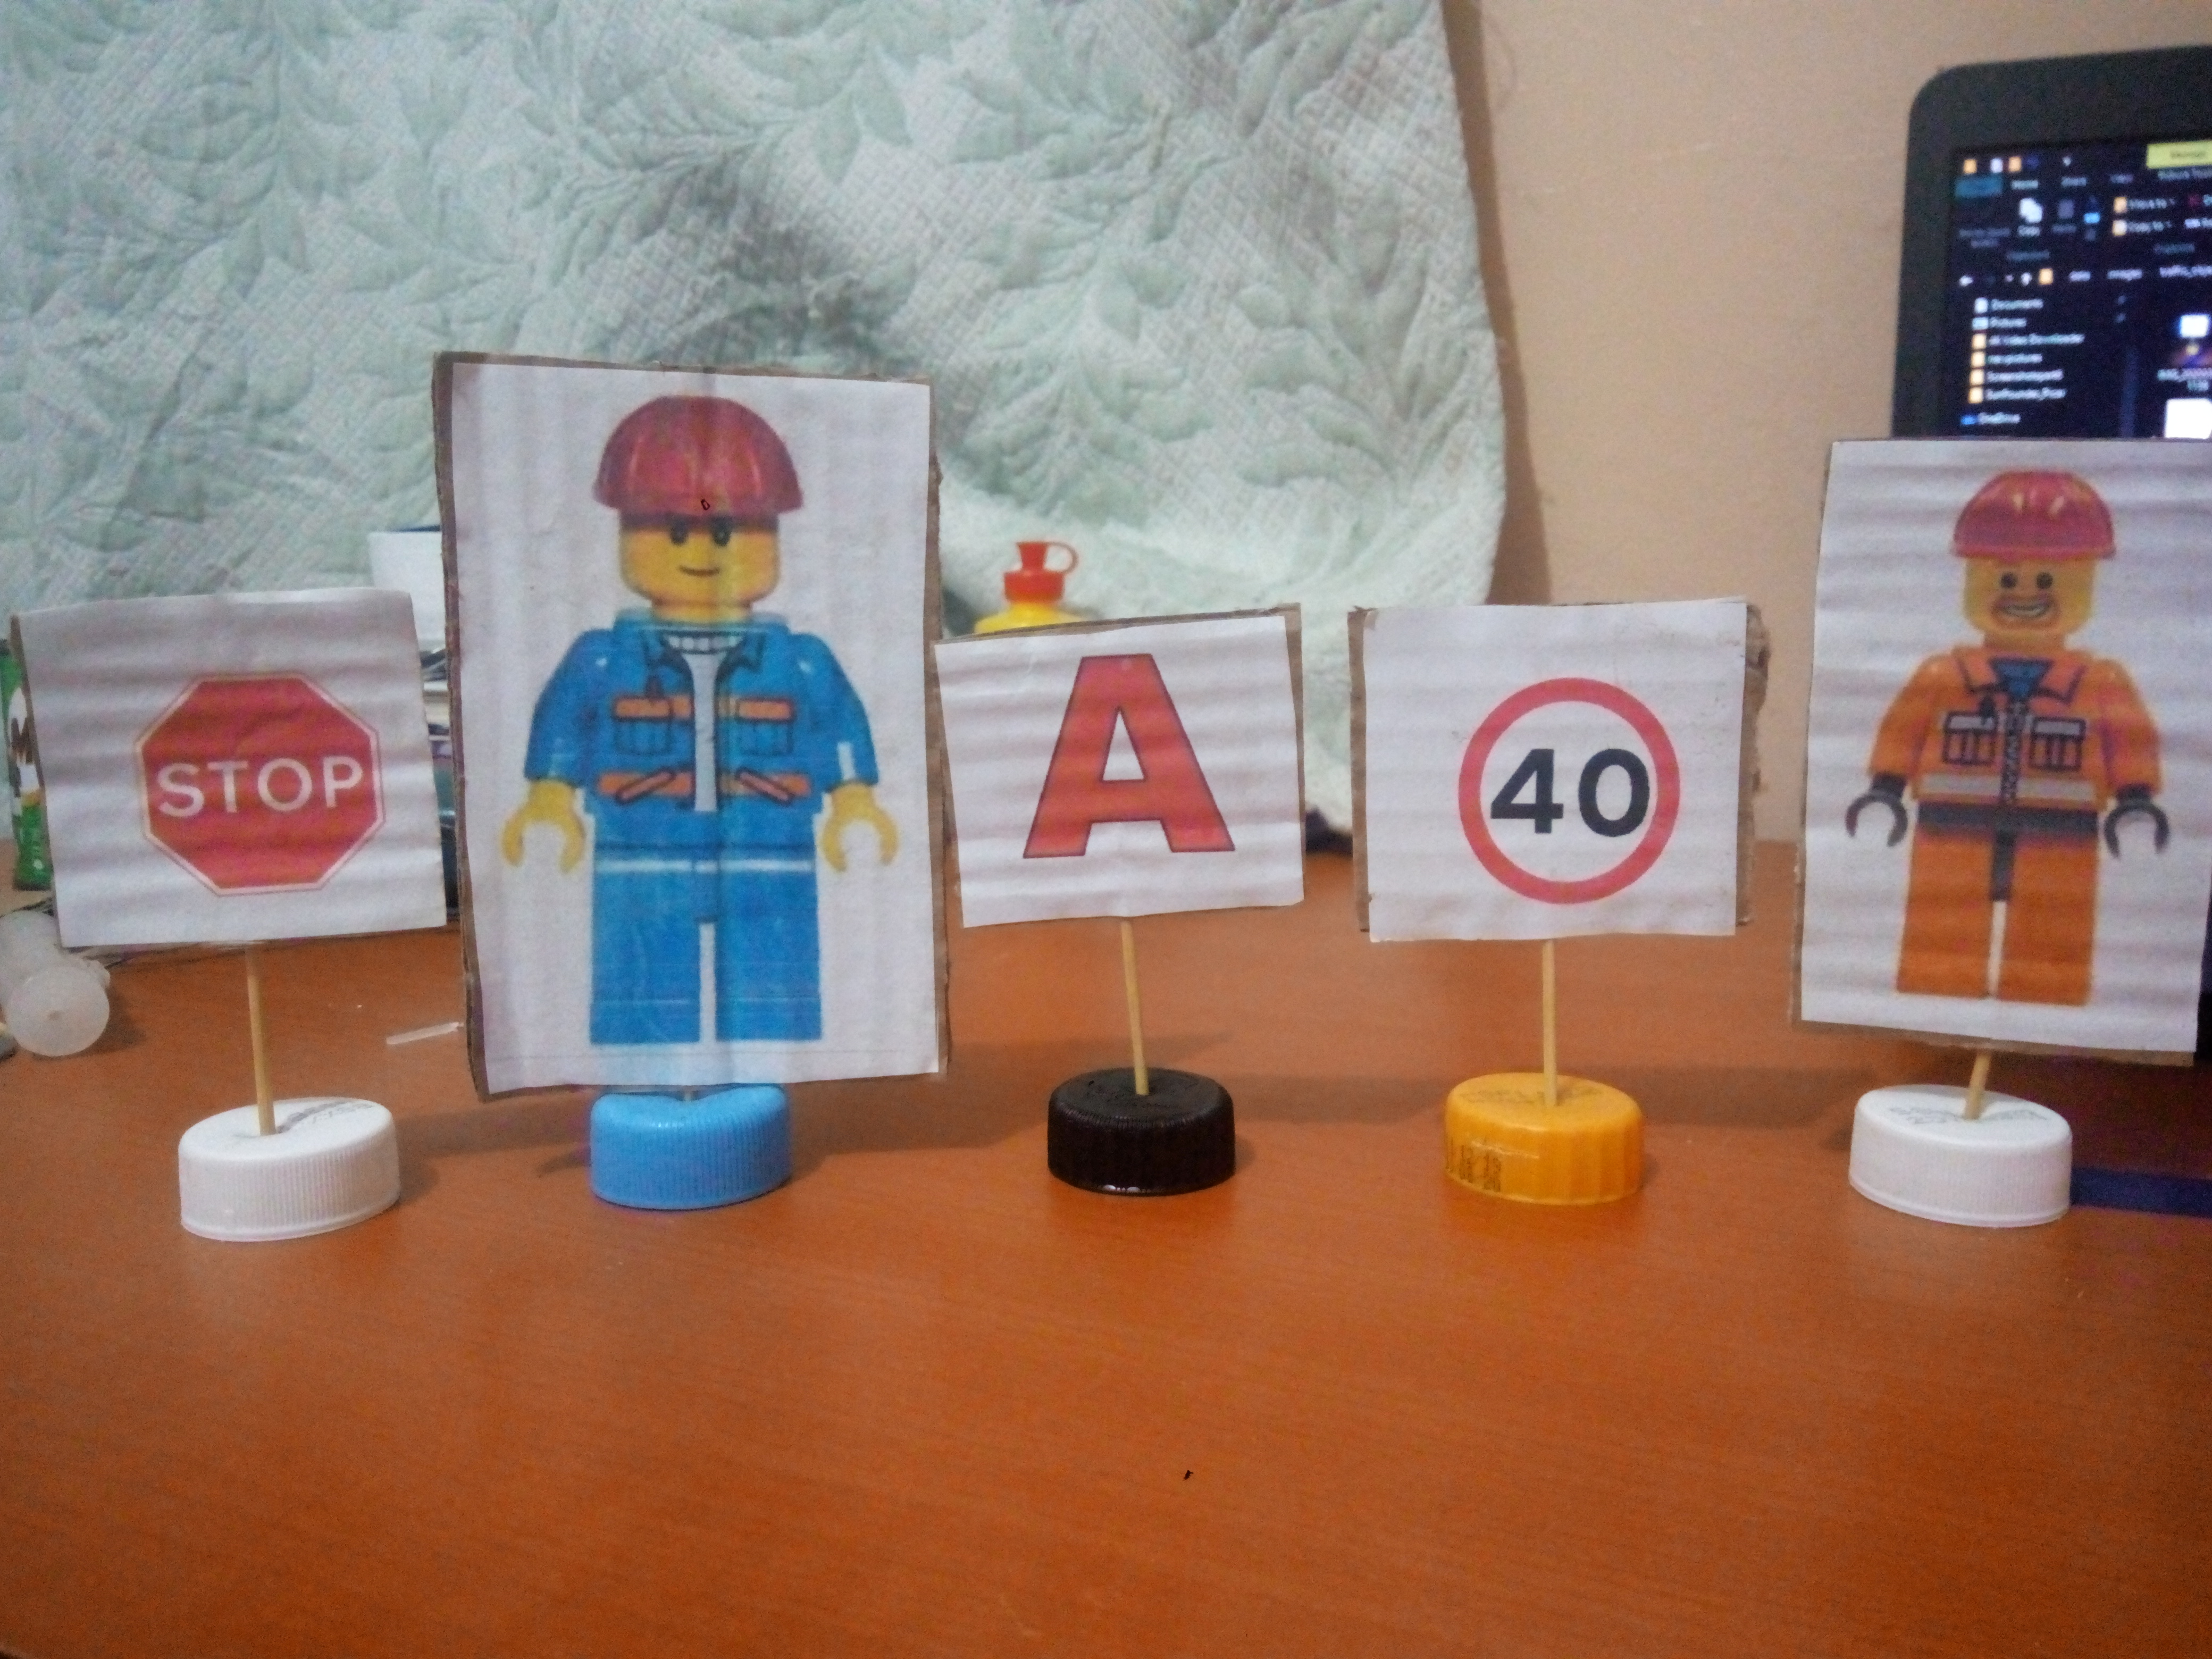40 kph: (1422, 649, 1696, 948)
pedestrian: (470, 389, 898, 1057), (1850, 434, 2154, 1019)
stop: (111, 667, 420, 892)
zone A: (1007, 639, 1255, 892)
